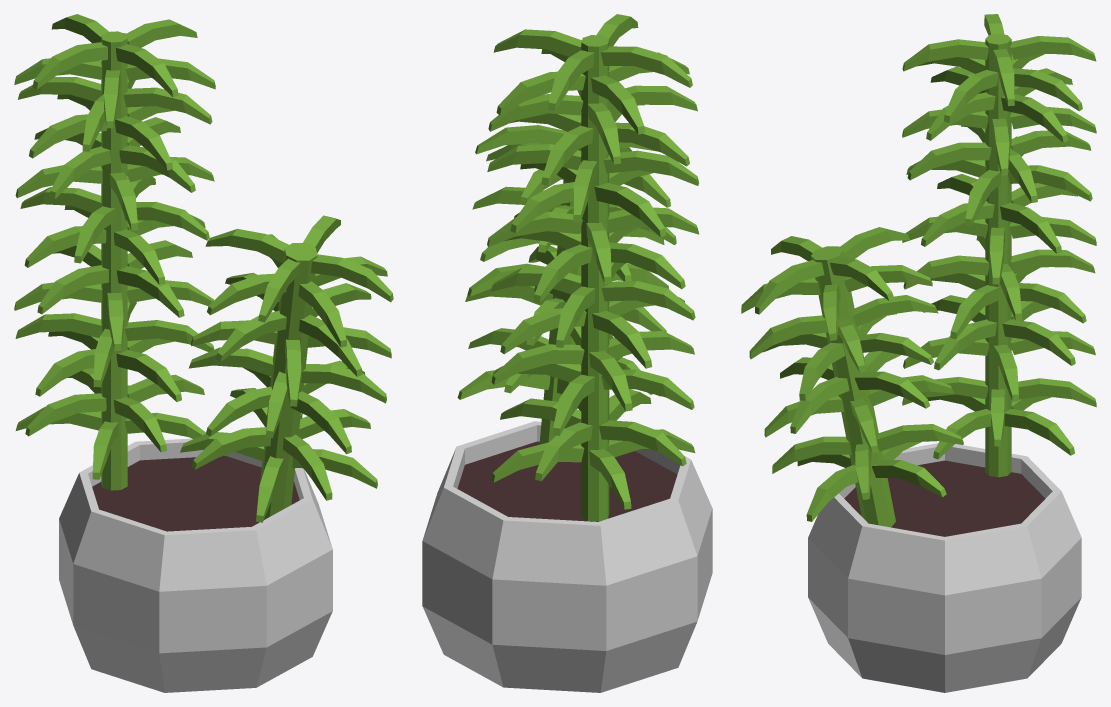
Rendered from Lounge Plant.glb.
3 renders of one model, left to right at view 1: azimuth 30°, elevation 25°; view 2: azimuth 150°, elevation 25°; view 3: azimuth 270°, elevation 25°, orthographic. The views are drawn at different scales.
Parts seen in each view (by area): view 1: Plant; view 2: Plant; view 3: Plant.
Part boxes in pixels (x1,y1,x2,y2): Plant: (14,14,393,692); Plant: (422,14,712,692); Plant: (741,14,1096,692).
Bounding box in the file's own units: 0.5843 × 1.23 × 0.6837.
1 material, 1 textured.
